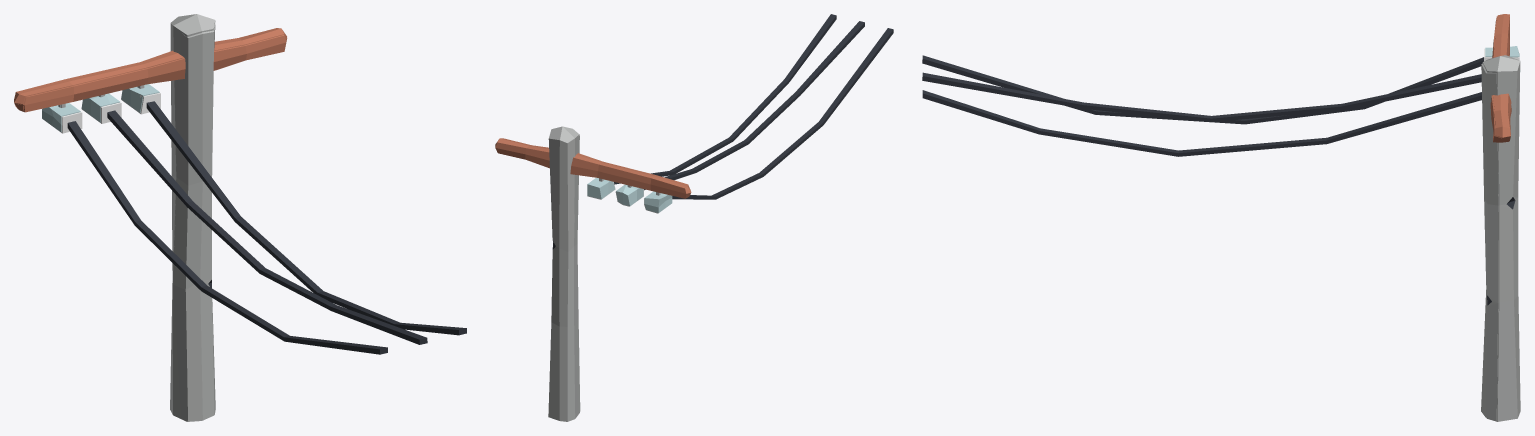
Rendered from Cenarios.fbx_Postes.fbx.
The picture shows the model from 3 angles, left to right: view 1: azimuth 30°, elevation 25°; view 2: azimuth 150°, elevation 25°; view 3: azimuth 270°, elevation 25°; orthographic projection. The views are drawn at different scales.
Visible parts, largest first — view 1: Poste Amassado Vazio, Poste Amassado; view 2: Poste Amassado, Poste Amassado Vazio; view 3: Poste Amassado, Poste Amassado Vazio.
Boxes of the visible parts, <box> form: Poste Amassado Vazio: <box>16,22,287,420</box>; Poste Amassado: <box>14,14,466,421</box>; Poste Amassado: <box>495,14,893,421</box>; Poste Amassado Vazio: <box>498,136,685,413</box>; Poste Amassado: <box>922,14,1520,421</box>; Poste Amassado Vazio: <box>1481,16,1519,420</box>.
Bounding box in the file's own units: 503 × 702 × 1063.
